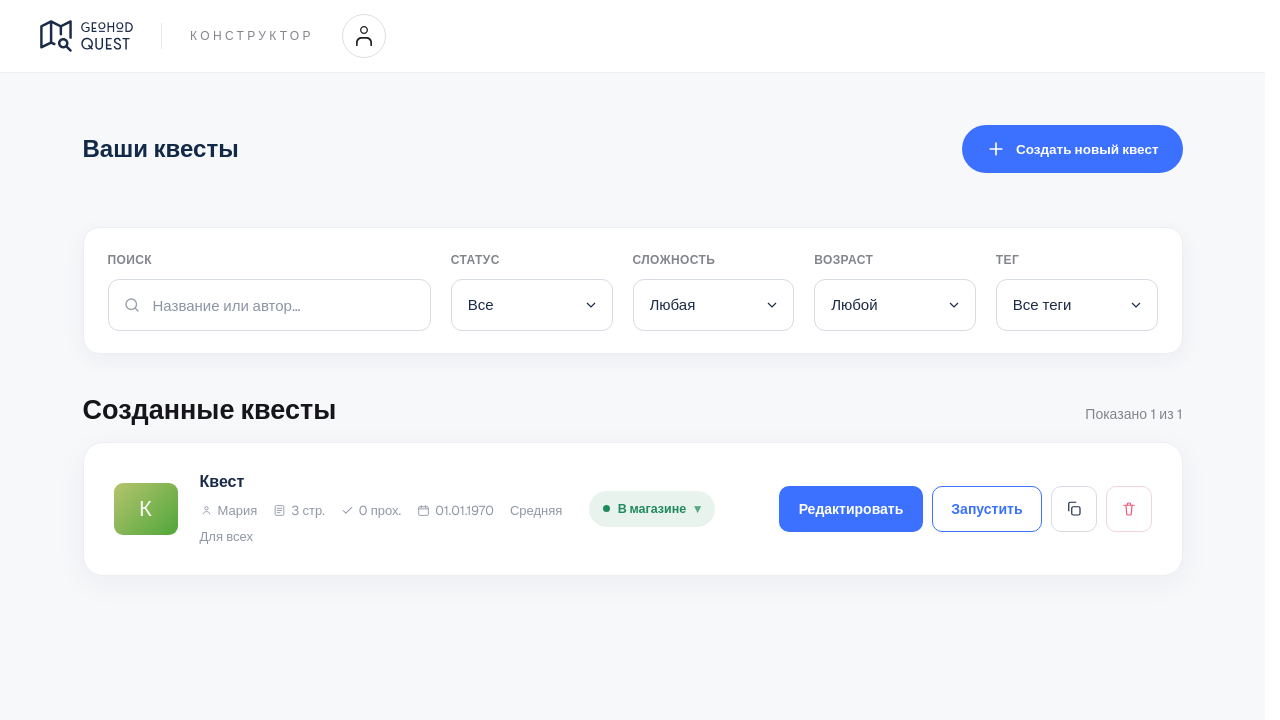
dashboard: deleting a quest › a published quest with buyers: warns it leaves the store and how many lose access
Click the button titled "Удалить": (1128, 509) [1106, 486, 1152, 532]
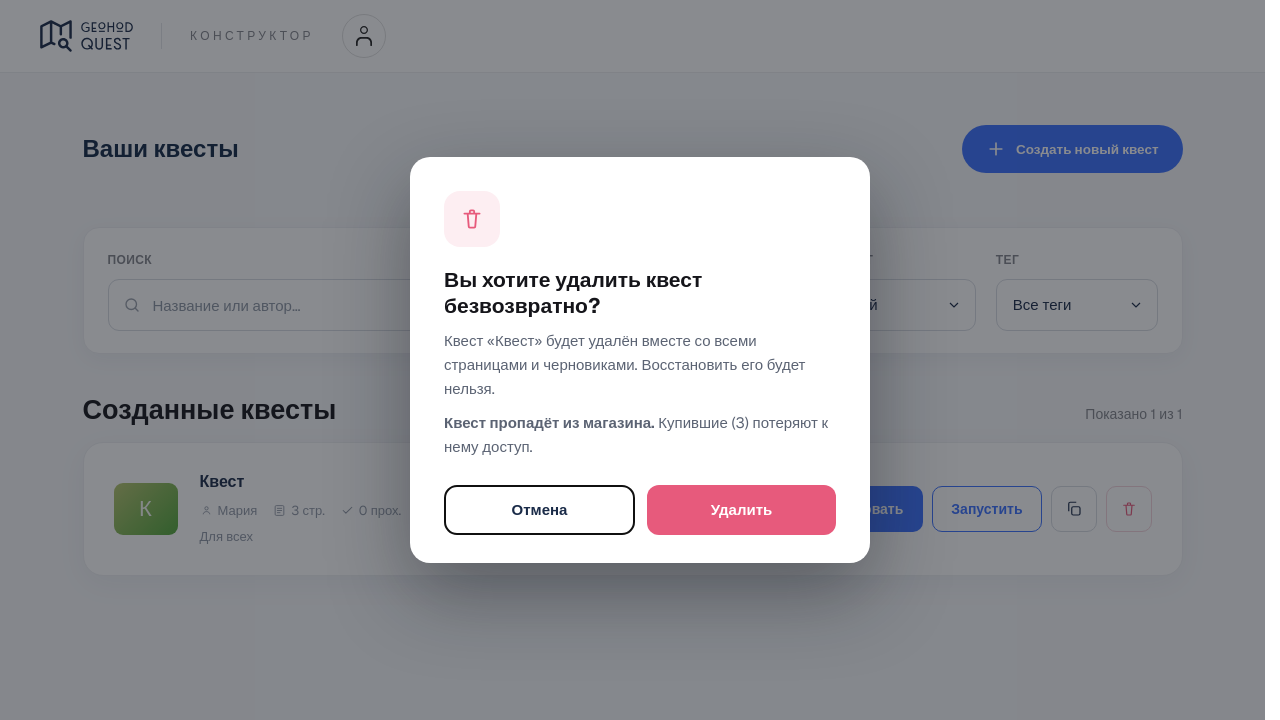
Now the text "Квест пропадёт из магазина." is shown, box [444, 413, 655, 432]
Now the text "Купившие (3) потеряют к нему доступ." is shown, box [444, 413, 828, 456]
